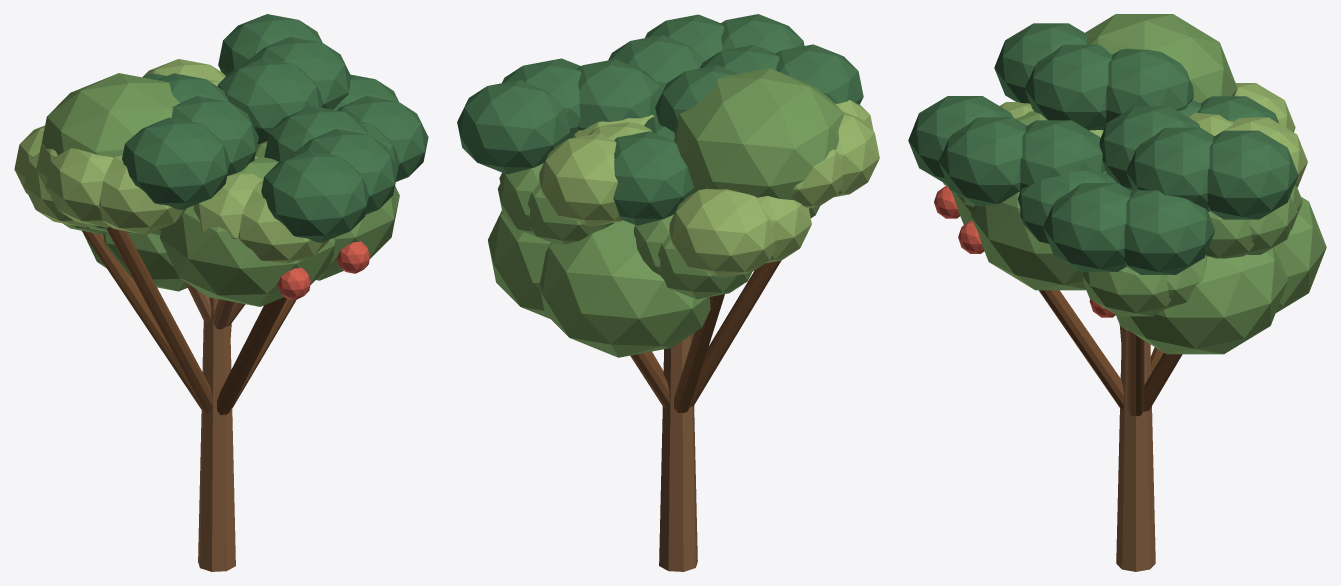
File: Apple_Tree_A.glb
3 renders of one model, left to right at view 1: azimuth 30°, elevation 25°; view 2: azimuth 150°, elevation 25°; view 3: azimuth 270°, elevation 25°, orthographic. The views are drawn at different scales.
Parts seen in each view (by area): view 1: Apple_Tree_A; view 2: Apple_Tree_A; view 3: Apple_Tree_A.
Part boxes in pixels (x1,y1,x2,y2): Apple_Tree_A: (14, 14, 428, 571); Apple_Tree_A: (457, 14, 879, 571); Apple_Tree_A: (908, 14, 1326, 571).
Bounding box in the file's own units: 1.83 × 2.38 × 1.8.
